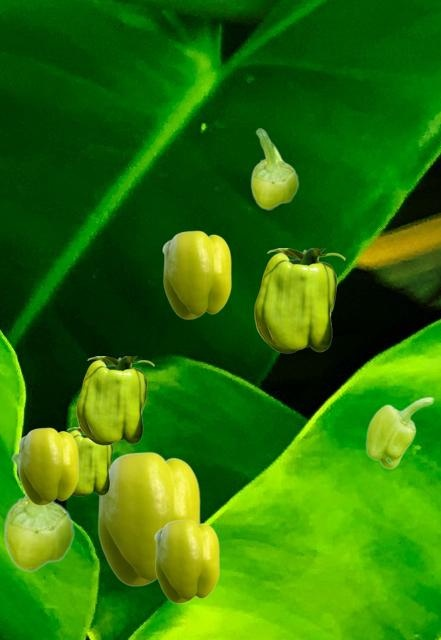bell_pepper: (97, 451, 199, 585), (254, 248, 344, 352), (3, 452, 74, 571), (76, 356, 153, 444), (162, 230, 230, 318), (154, 519, 218, 602), (365, 396, 433, 468), (18, 427, 77, 504), (250, 128, 298, 209), (66, 427, 113, 495)
